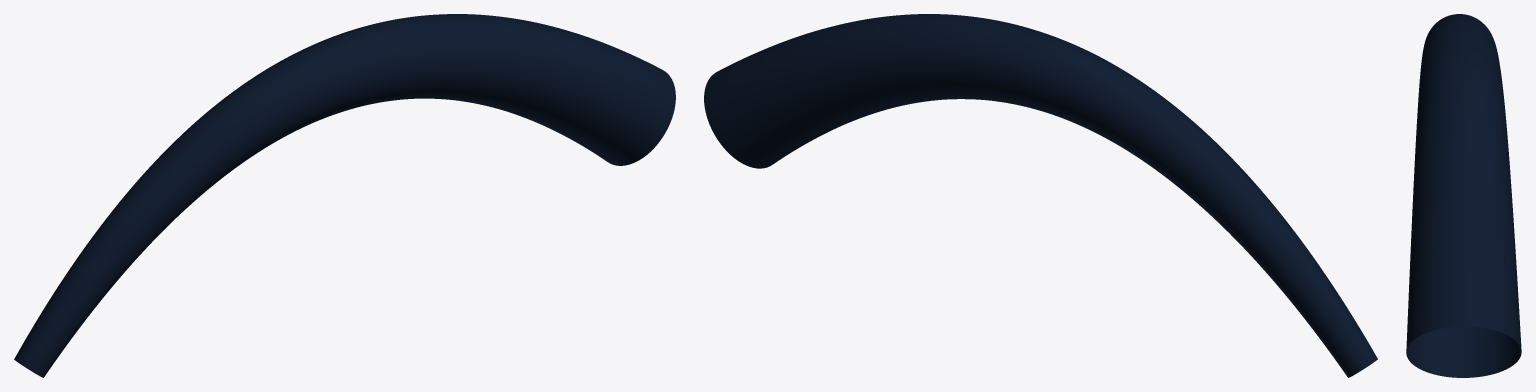
File: defaultRightBrow.dae
The picture shows the model from 3 angles, left to right: view 1: azimuth 30°, elevation 25°; view 2: azimuth 150°, elevation 25°; view 3: azimuth 270°, elevation 25°; orthographic projection. The views are drawn at different scales.
Visible parts, largest first — view 1: RightBrow; view 2: RightBrow; view 3: RightBrow.
Boxes of the visible parts, x1,y1,x2,y2 form: RightBrow: (14,14,675,377); RightBrow: (704,14,1377,377); RightBrow: (1406,14,1521,377).
Size of the model in its own units: 27.77 by 10.74 by 3.97.
